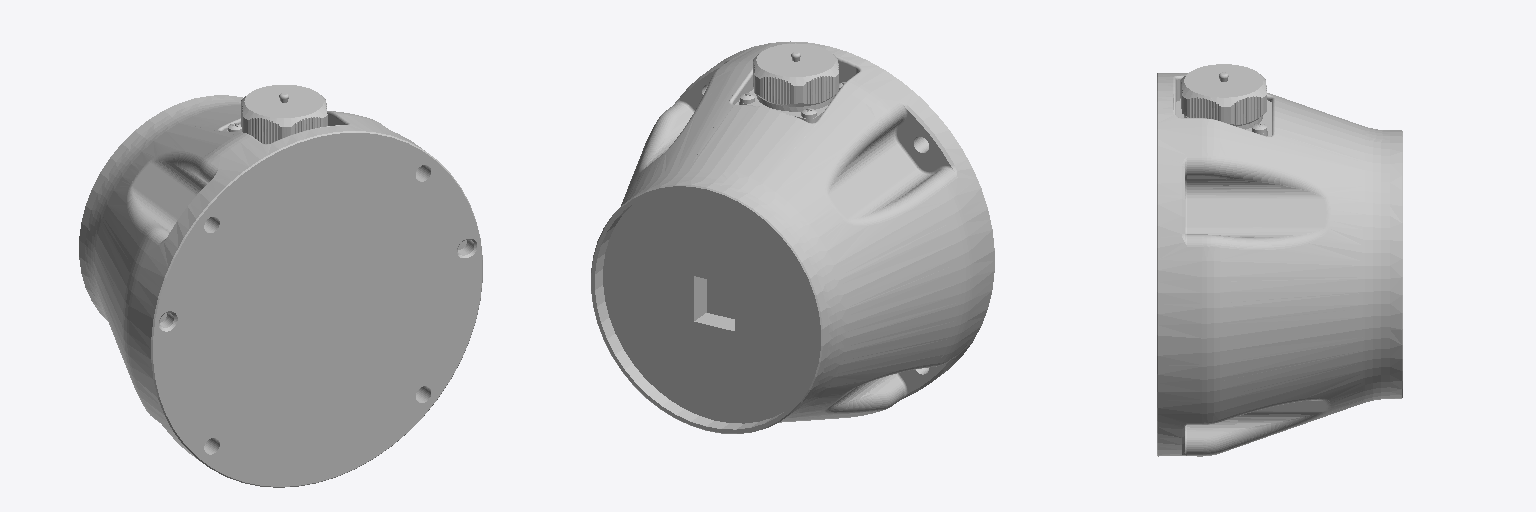
The model's file is AUBOBASE.obj.
3 renders of one model, left to right at view 1: azimuth 30°, elevation 25°; view 2: azimuth 150°, elevation 25°; view 3: azimuth 270°, elevation 25°, orthographic.
Visible parts, largest first — view 1: uploads_files_[number redacted]_i3-V2.001; view 2: uploads_files_[number redacted]_i3-V2.001; view 3: uploads_files_[number redacted]_i3-V2.001.
Part boxes in pixels (x1,y1,x2,y2): uploads_files_[number redacted]_i3-V2.001: (79,85,482,487); uploads_files_[number redacted]_i3-V2.001: (591,41,994,433); uploads_files_[number redacted]_i3-V2.001: (1157,64,1402,456).
Bounding box in the file's own units: 69.97 × 73.5 × 45.